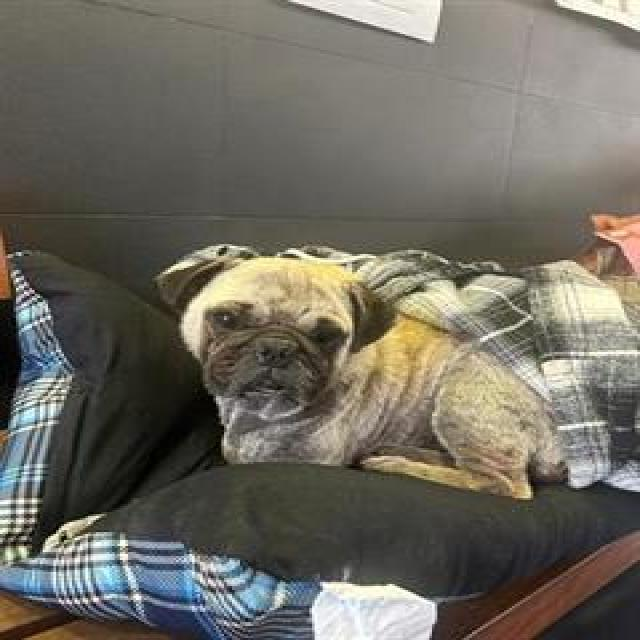pug_dog: (150, 245, 409, 433)
